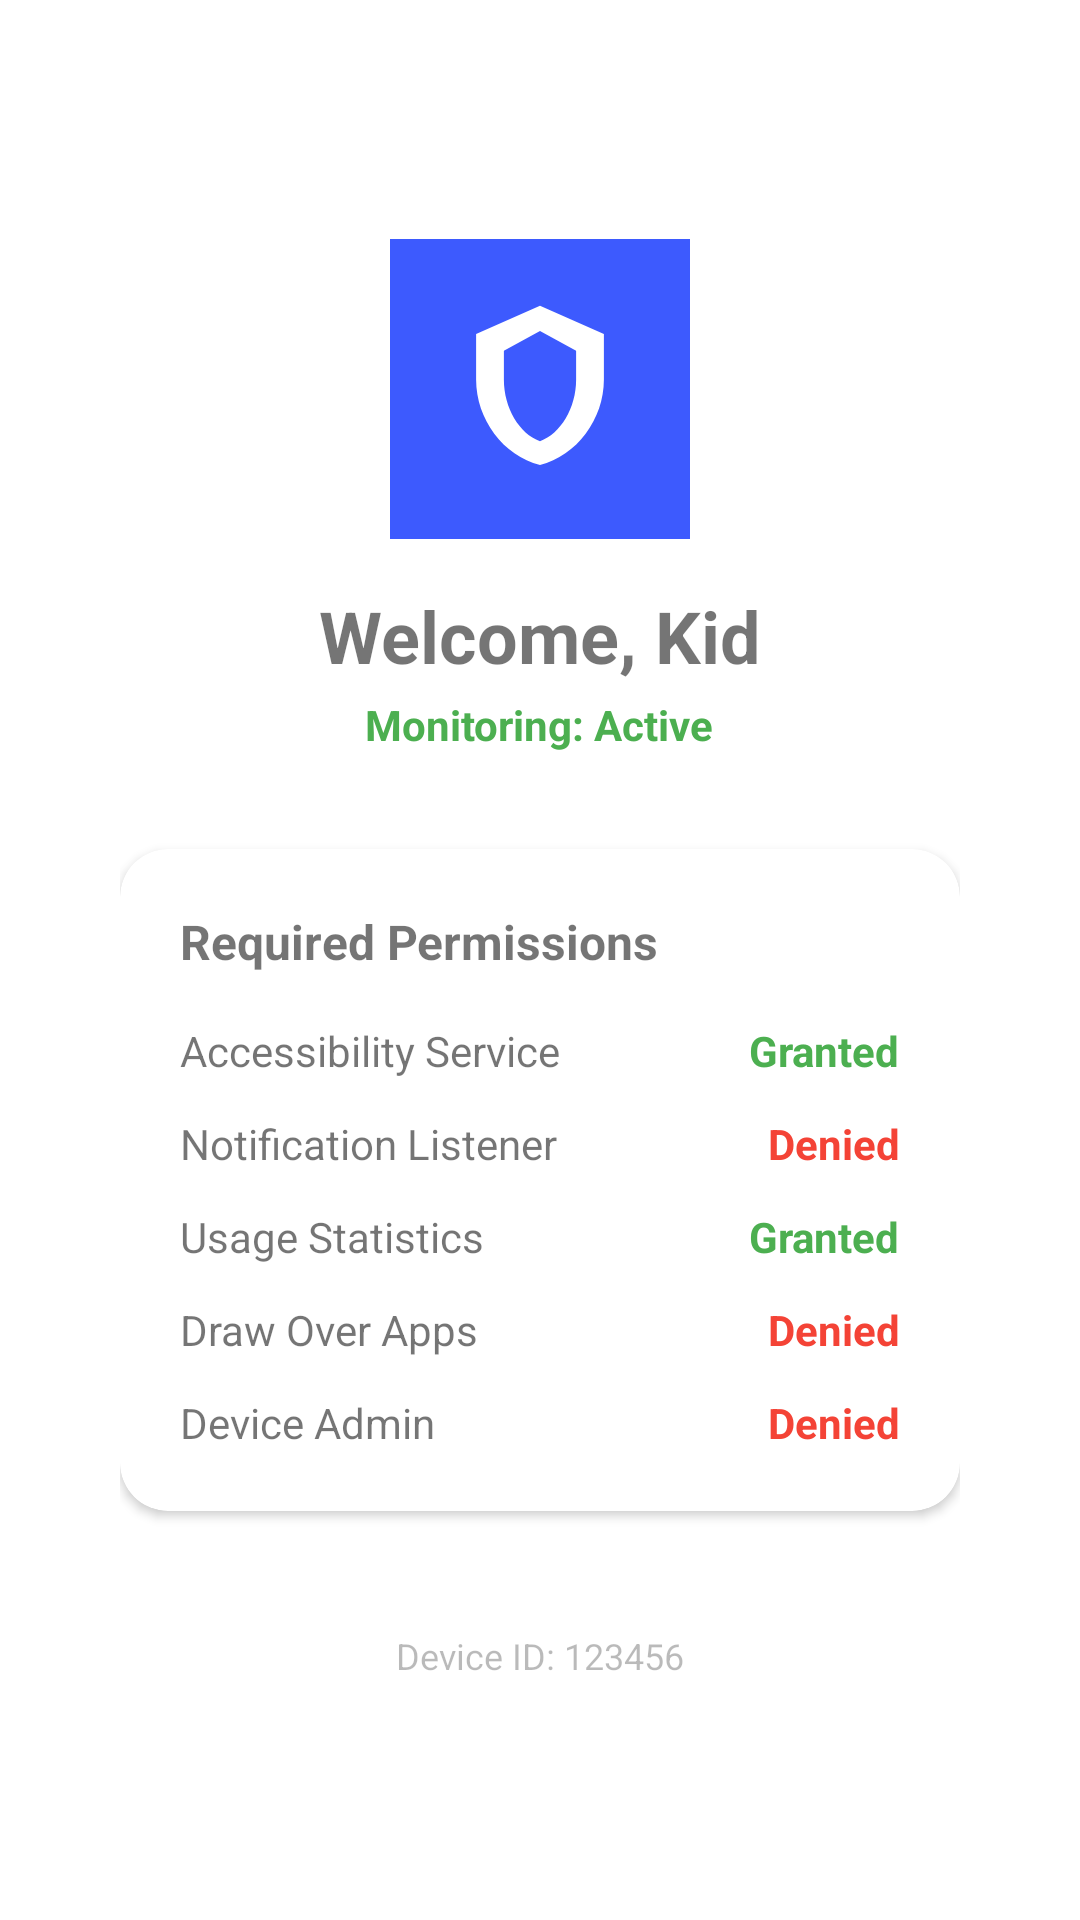

Icons on this 1080 × 1920 Android screen, each with the point to tap as (x,y):
parental shield: (540,389)
